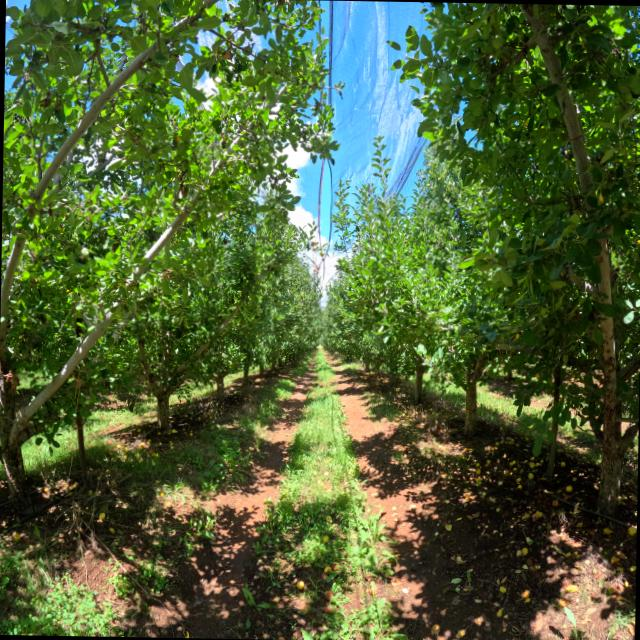-FireBlight-: (1, 369, 20, 391)
